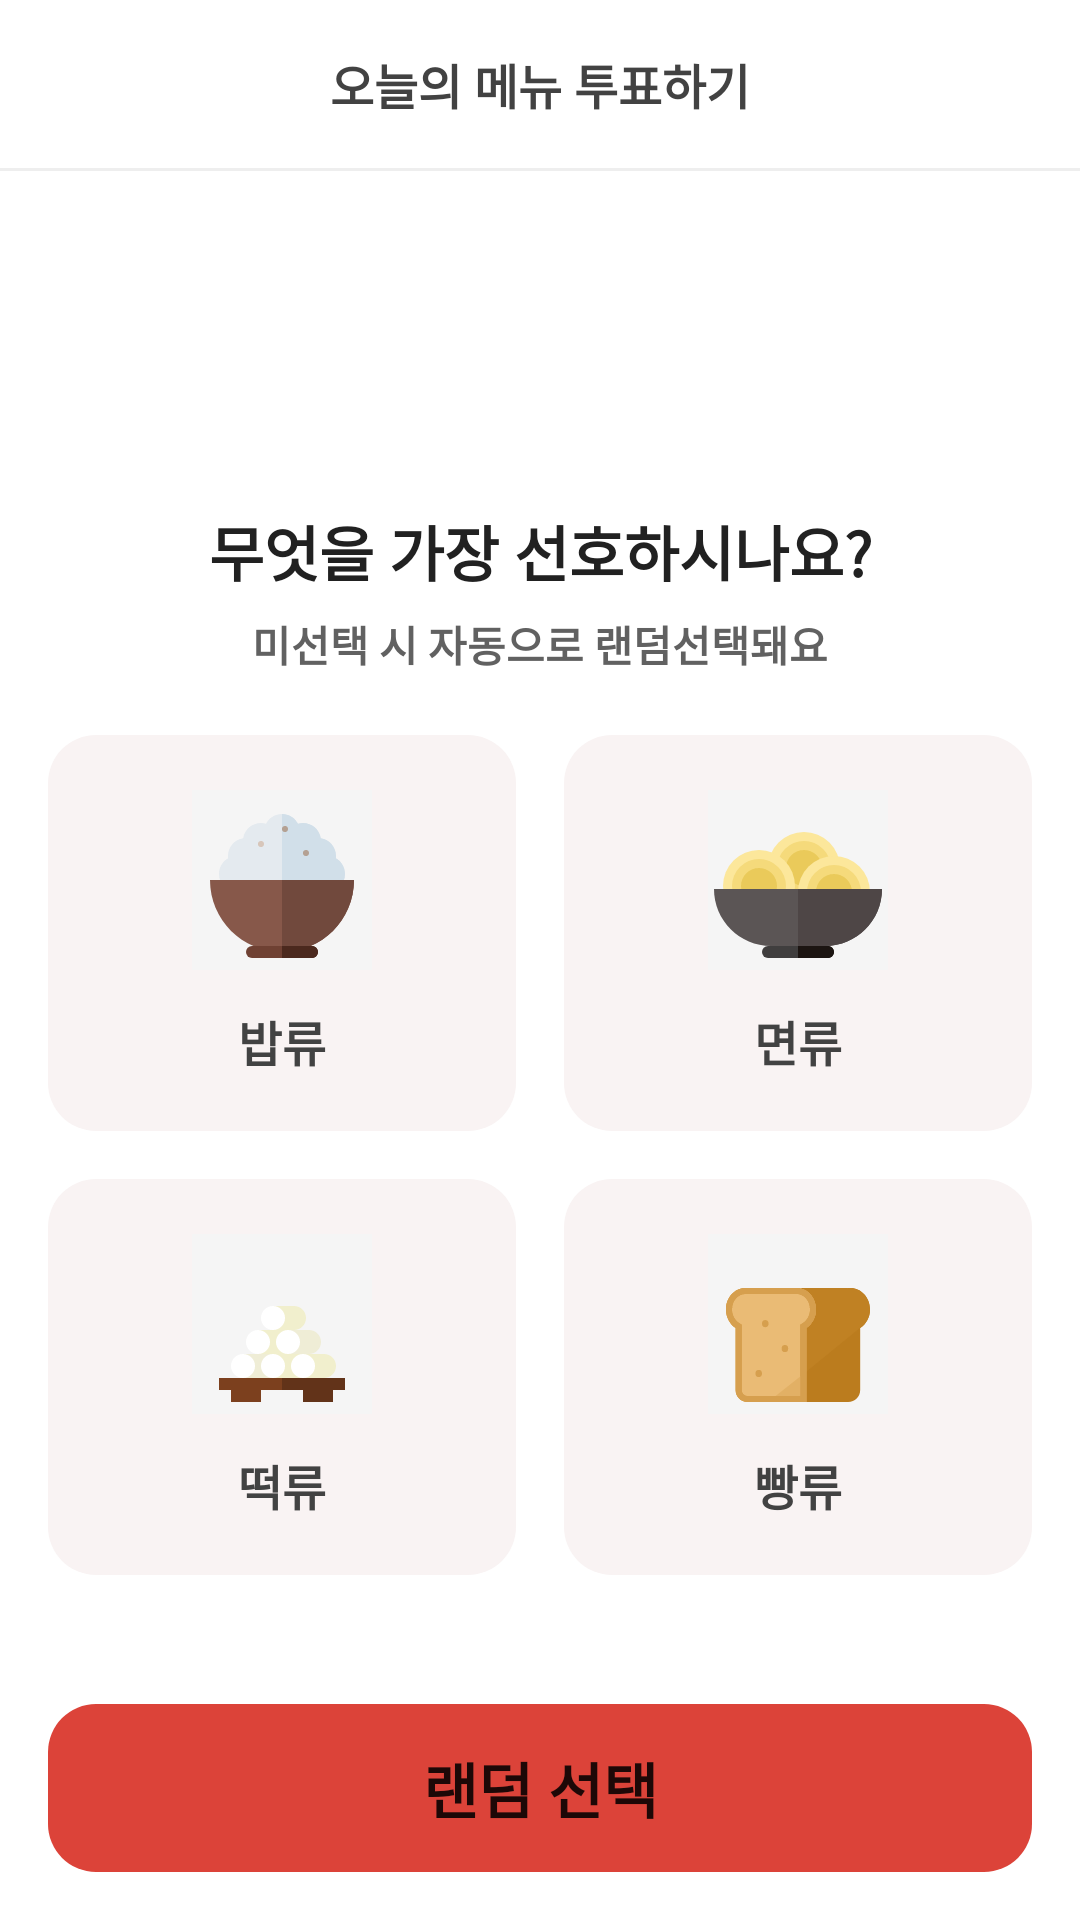

Icons on this 1080px x 1920px Android screen, each with the point to tap as point (x, y):
rice: point (282, 886)
